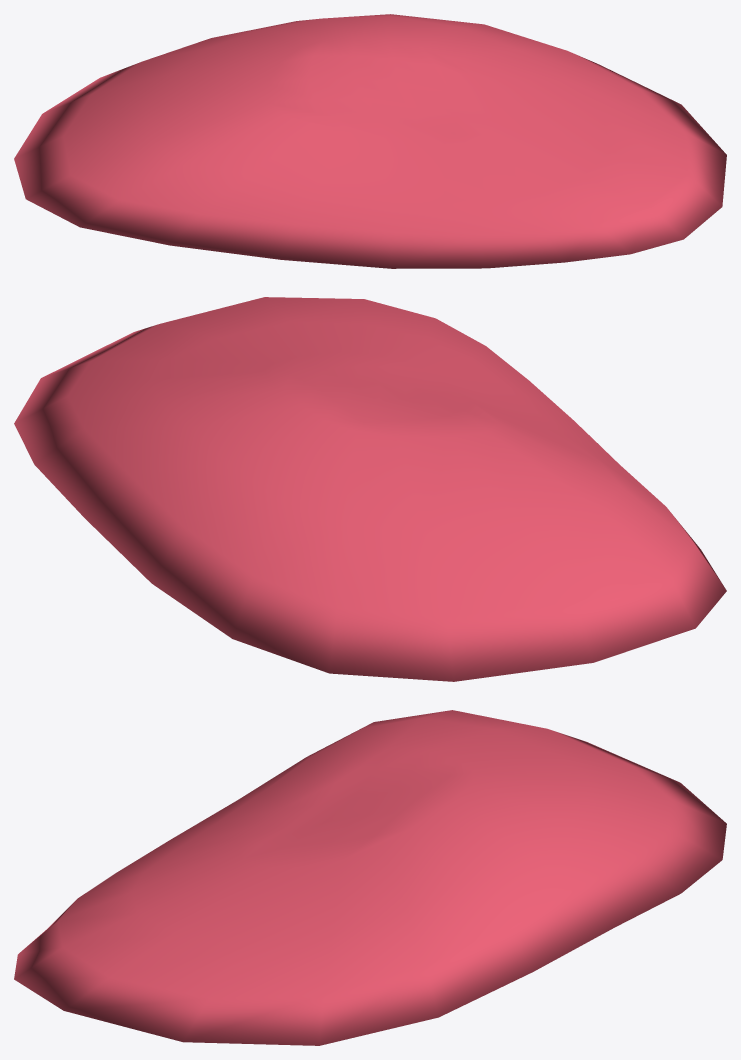
Rendered from Chicken Breast.glb.
3 renders of one model, top to bottom at view 1: azimuth 30°, elevation 25°; view 2: azimuth 150°, elevation 25°; view 3: azimuth 270°, elevation 25°, orthographic. The views are drawn at different scales.
Visible parts, largest first — view 1: Chicken breast; view 2: Chicken breast; view 3: Chicken breast.
Boxes of the visible parts, left/top/right/bottom form: Chicken breast: left=14, top=14, right=726, bottom=268; Chicken breast: left=14, top=297, right=726, bottom=681; Chicken breast: left=14, top=710, right=726, bottom=1045.
Size of the model in its own units: 1.89 by 0.3309 by 1.73.
